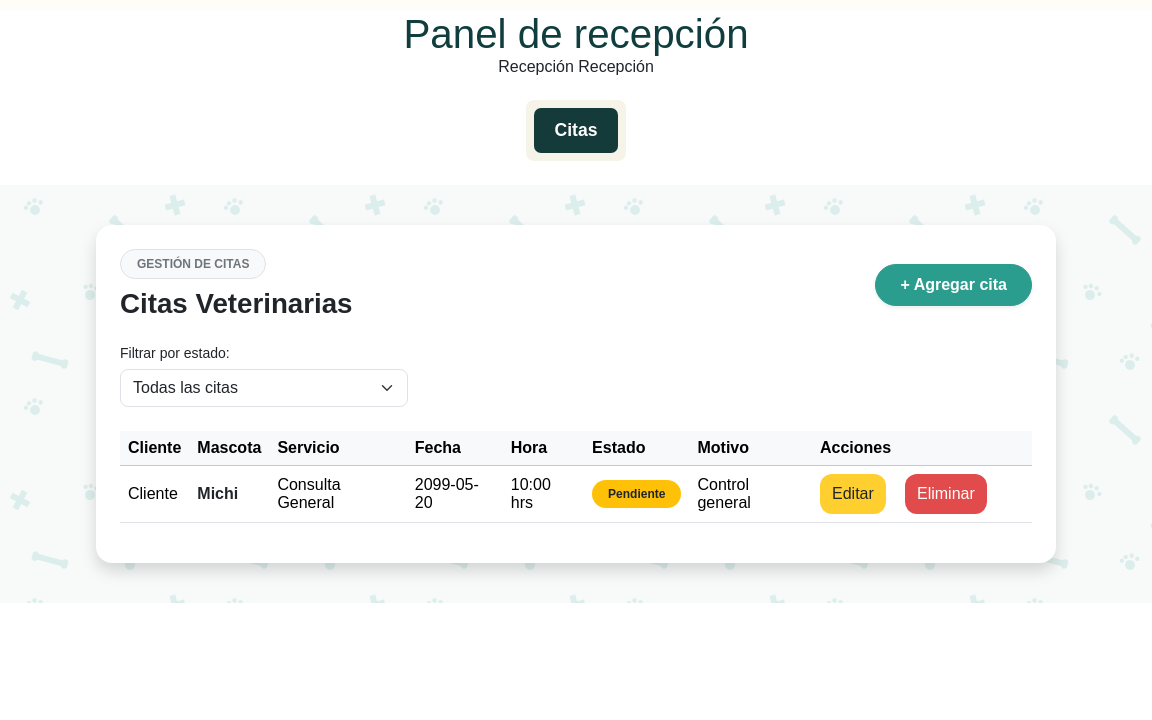
Test case: permite a recepción cambiar el estado de una cita
Click the button "Editar" at (853, 494), box 820,474 -> 886,514
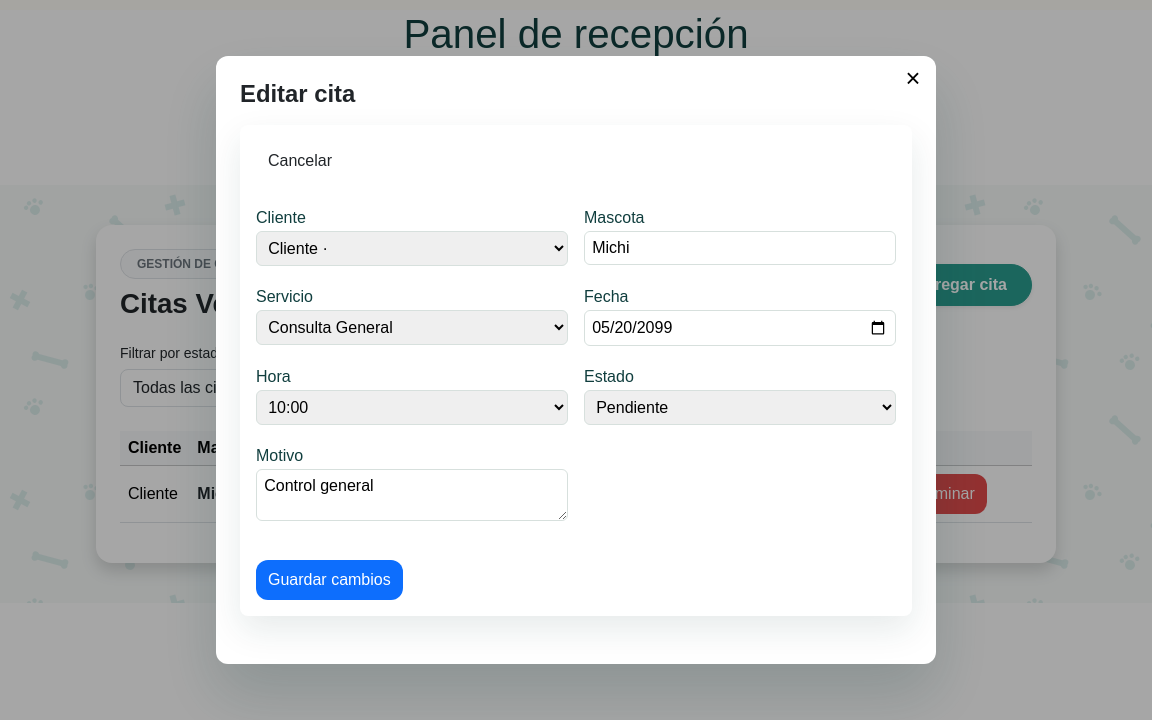
Select "Confirmada" in the dropdown labelled "Estado" at (740, 408), box 584,390 -> 896,425
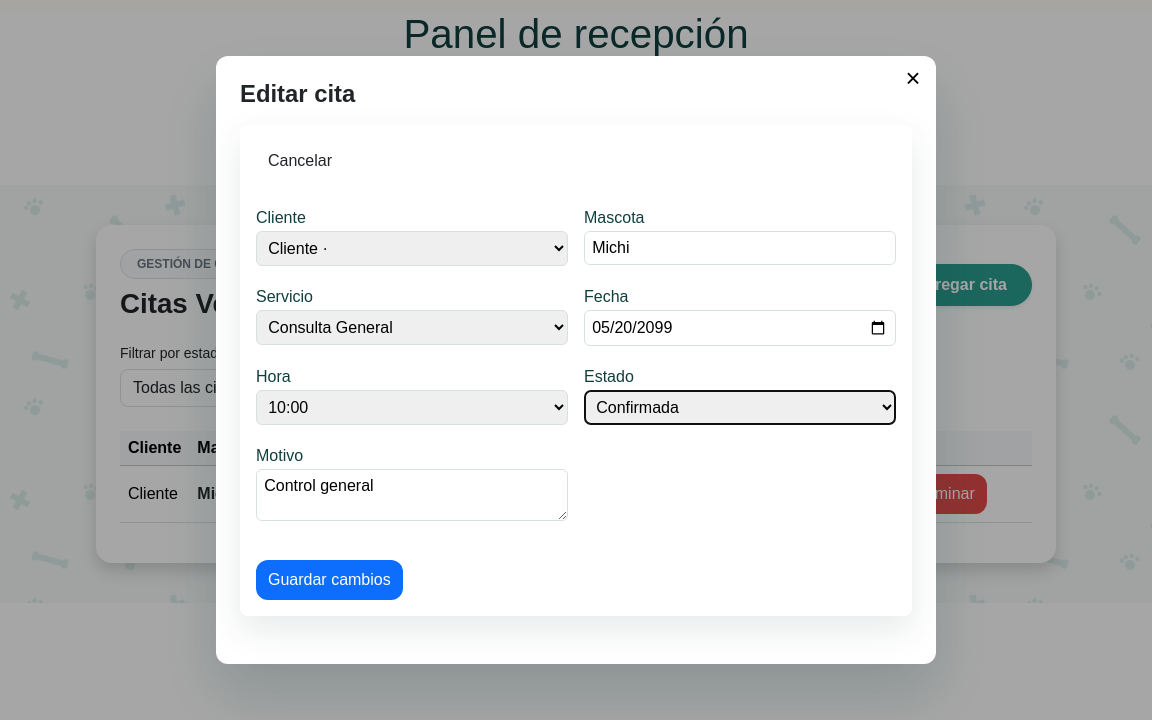
Click the button "Guardar cambios" at (329, 580), box 256,560 -> 403,600
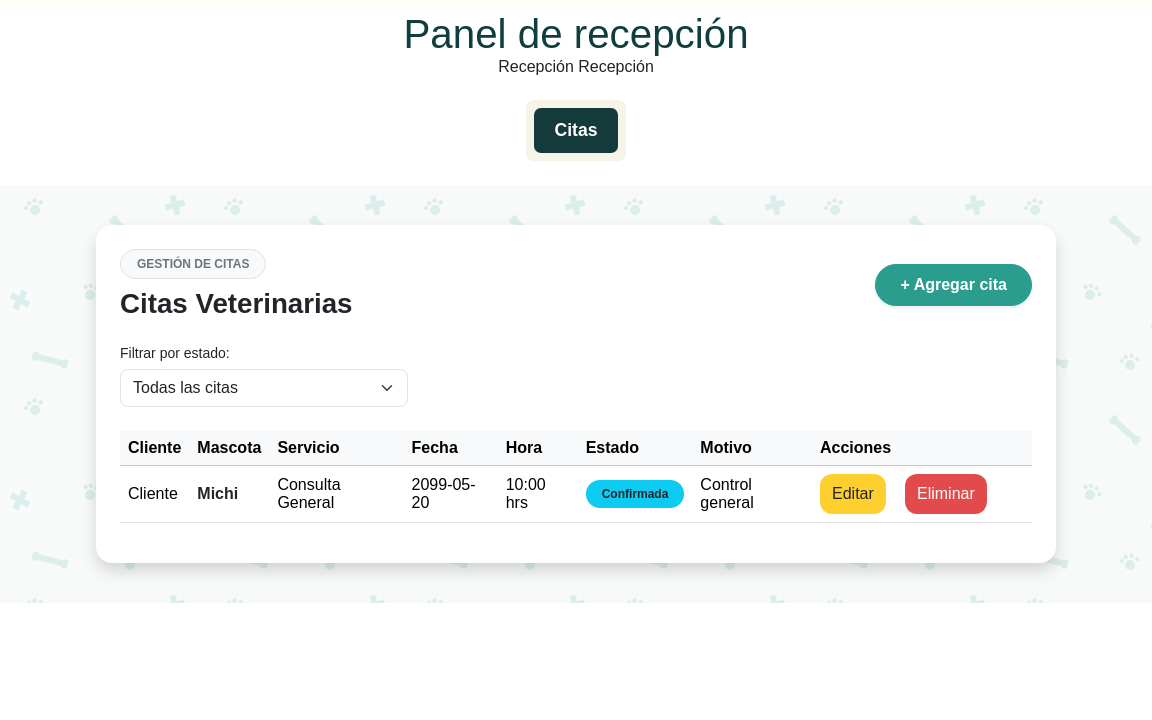
expect the text "Confirmada" is shown: met, box 586,480 -> 684,508
